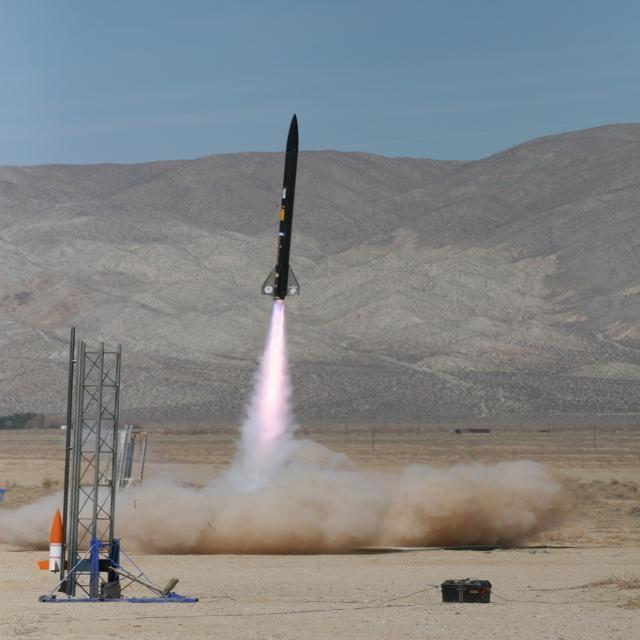missile: (259, 109, 301, 302)
